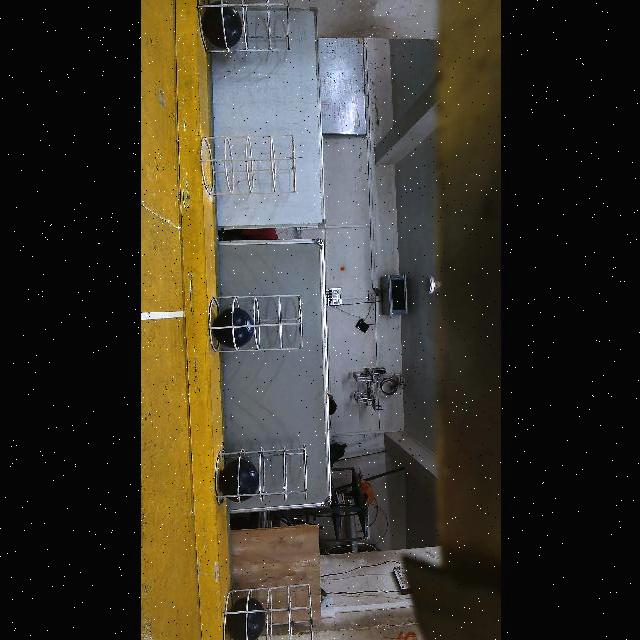P: (202, 2, 241, 49), (219, 459, 257, 503), (215, 304, 253, 343), (227, 596, 265, 635)
S: (207, 446, 315, 504), (194, 130, 292, 192), (205, 294, 302, 350), (222, 582, 314, 640), (202, 0, 288, 52)
